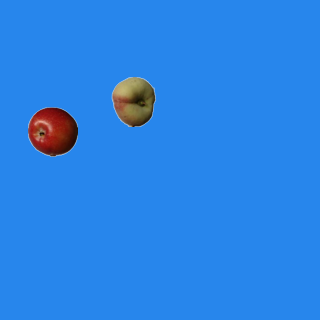Apple Braeburn: (27, 106, 77, 156)
Peach Flat: (108, 76, 158, 126)
